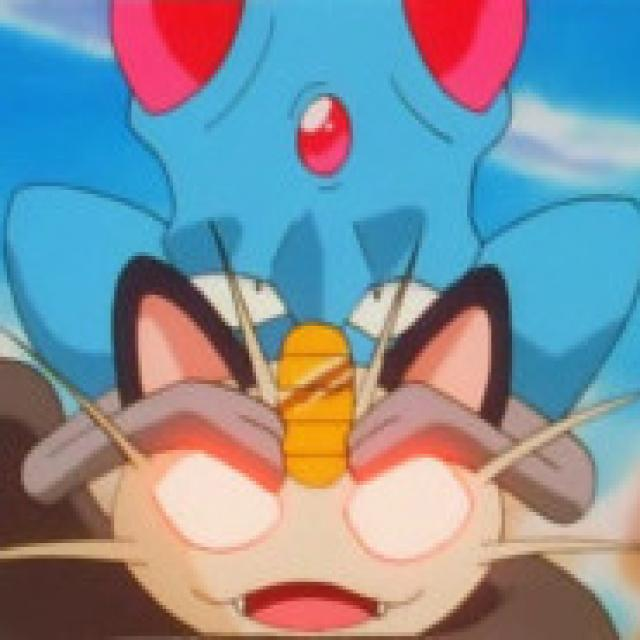Meowth: (89, 259, 527, 640)
Tentacool: (106, 0, 557, 460)
